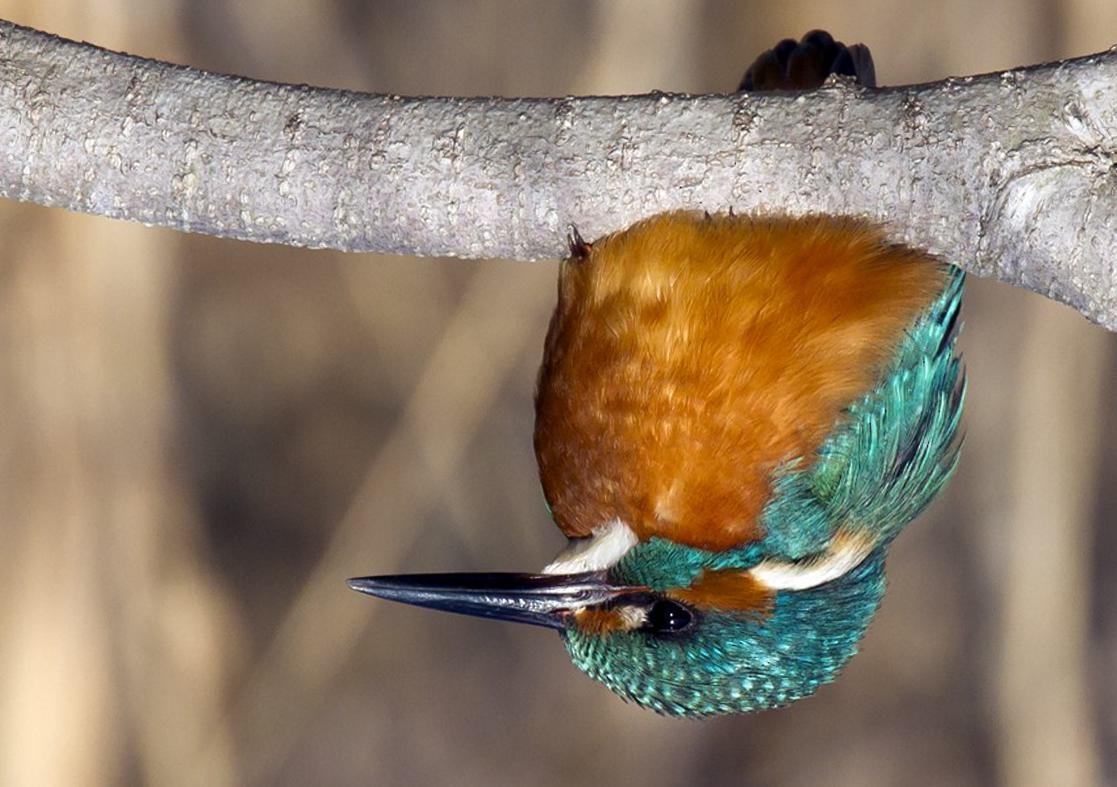kingfisher: (339, 39, 957, 722)
